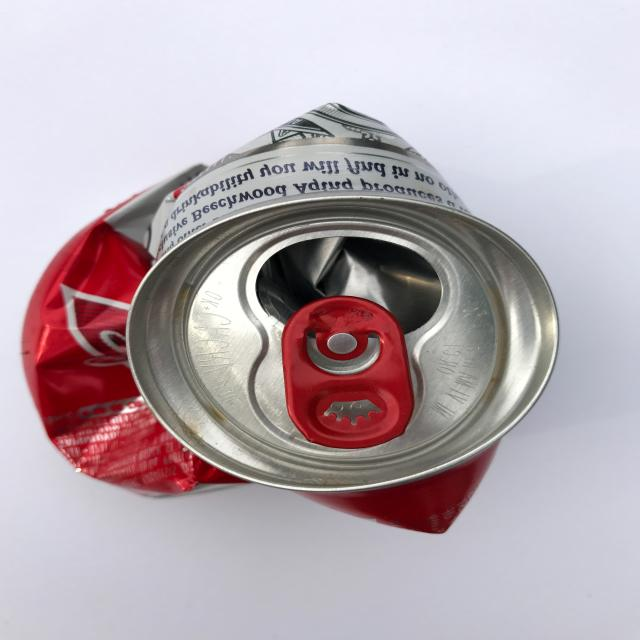metal: (6, 55, 544, 524)
